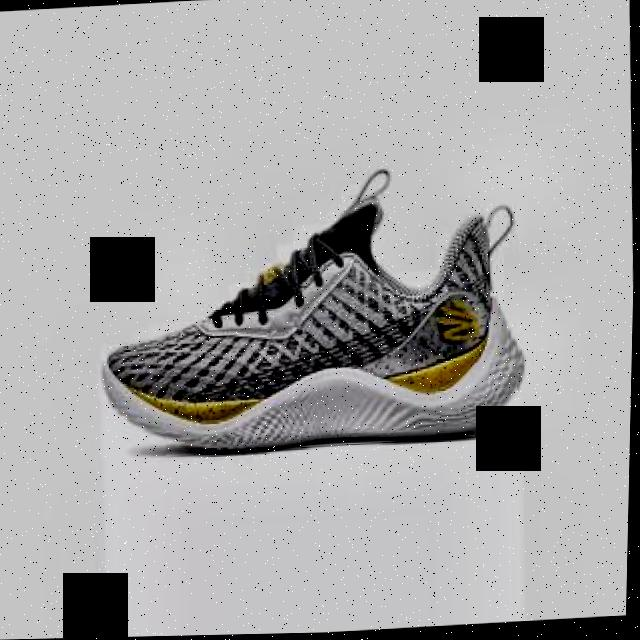shoe: (92, 163, 526, 460)
